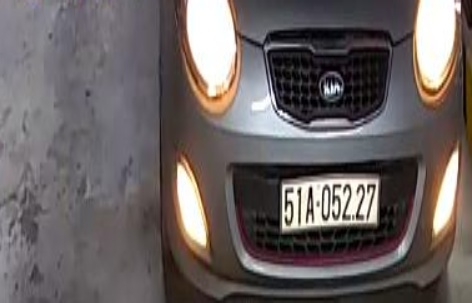plate: (279, 169, 378, 231)
